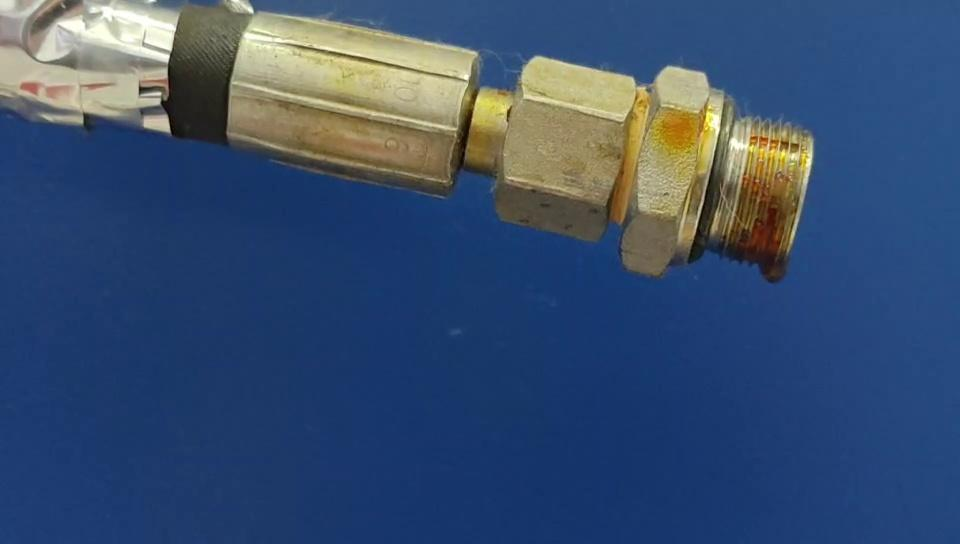water drop: (761, 260, 785, 282)
